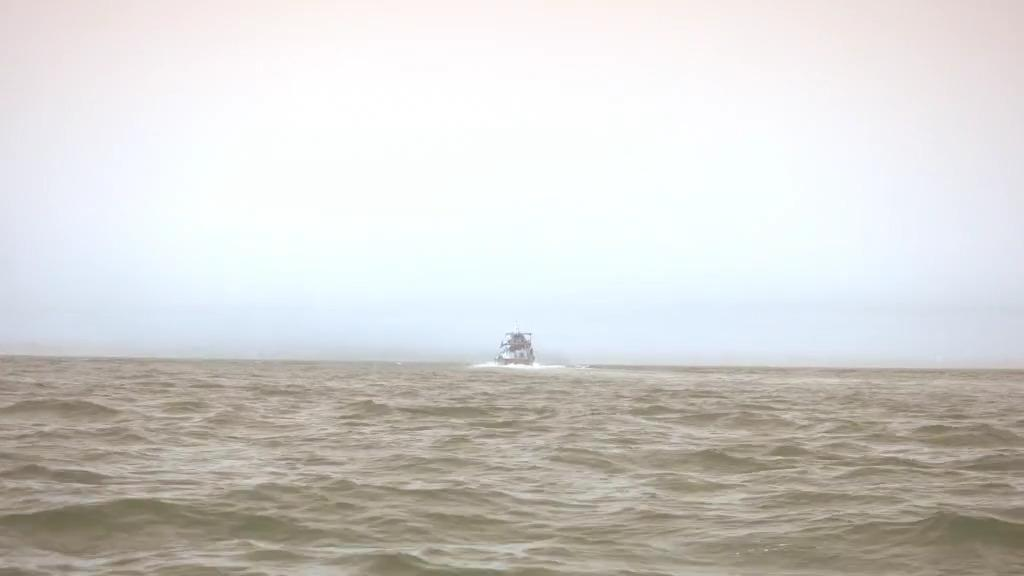PassengerShip: (492, 320, 542, 368)
